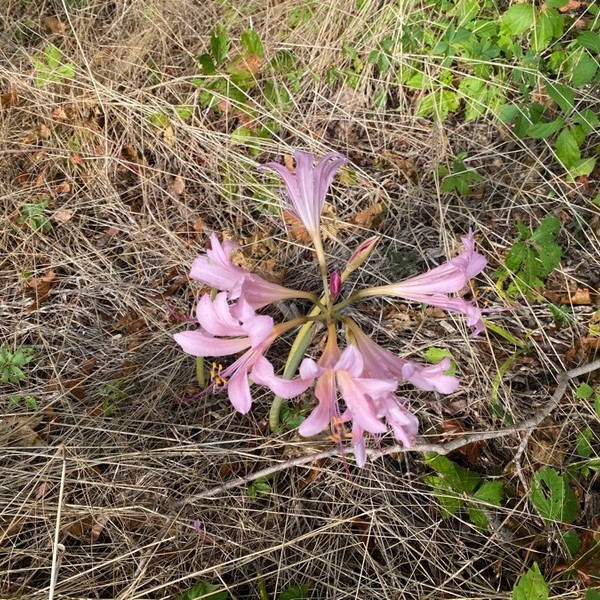obstacle: (158, 146, 490, 463)
